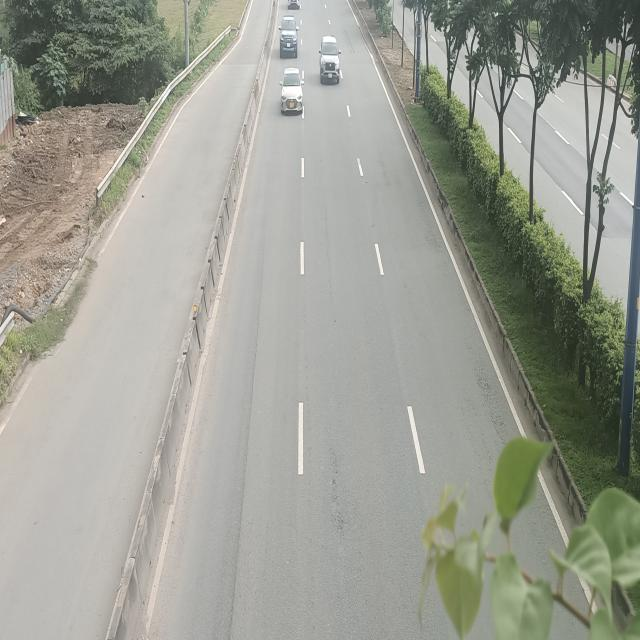car: (279, 68, 304, 116), (318, 37, 342, 85), (279, 15, 299, 59)
